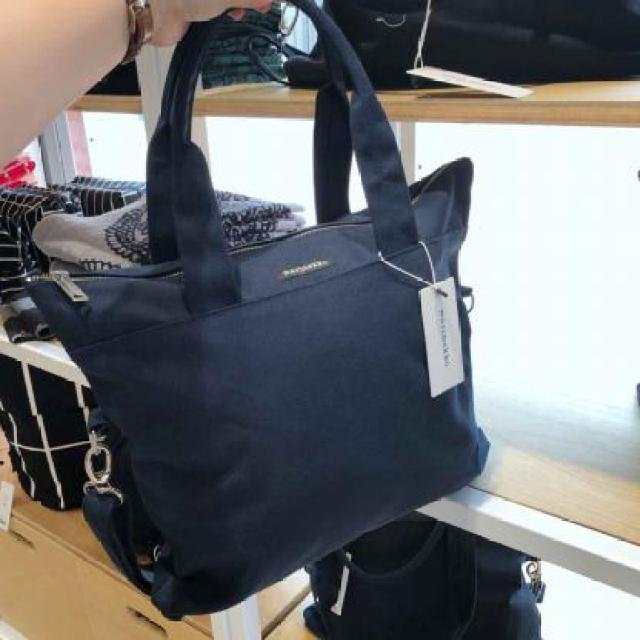Bag: (24, 0, 542, 626)
